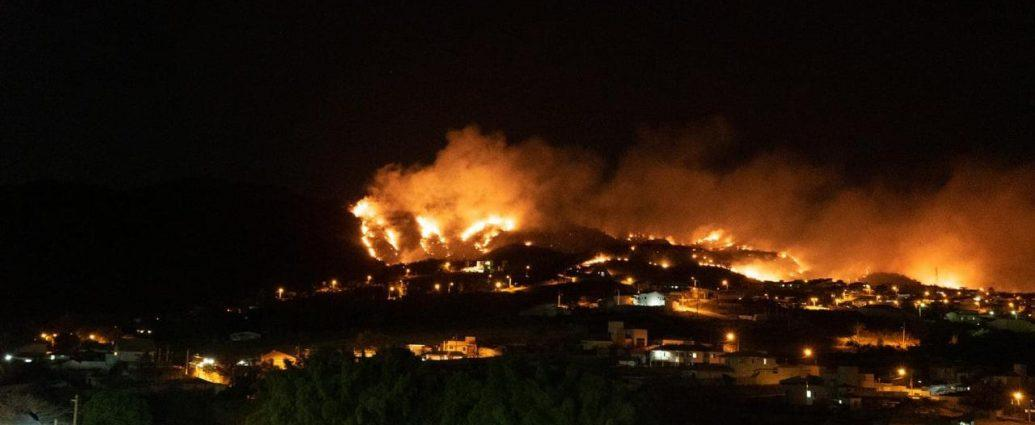fire: (360, 200, 515, 245), (729, 261, 789, 286), (919, 275, 964, 290)
smoke: (830, 199, 1030, 263), (619, 176, 811, 230)
